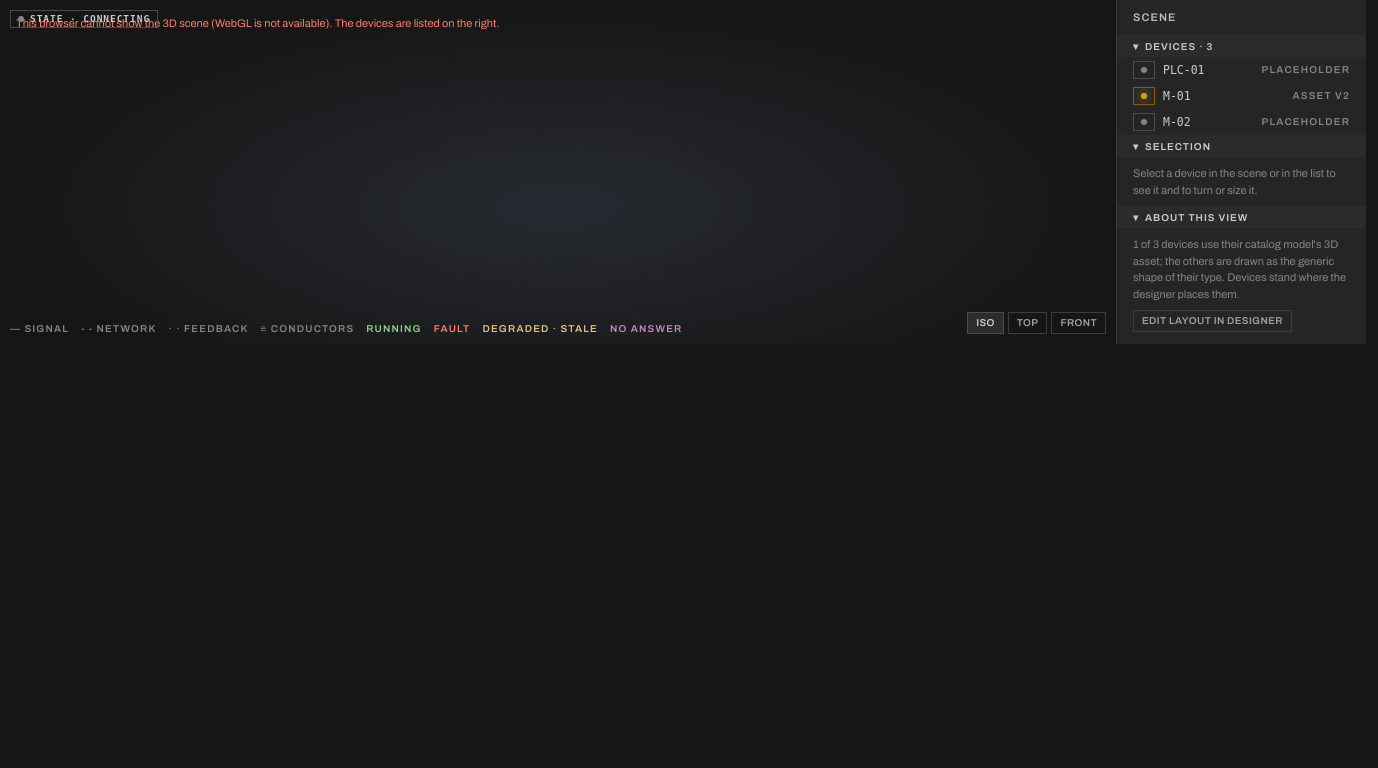
SceneView › stays usable without WebGL: no scene, but the devices and their details
Expected: the 1st message shows "WebGL is not available", x1=16 y1=17 x2=499 y2=29
Click the button "M-01 asset v2" at coordinates (1242, 96), box x1=1117 y1=83 x2=1366 y2=109
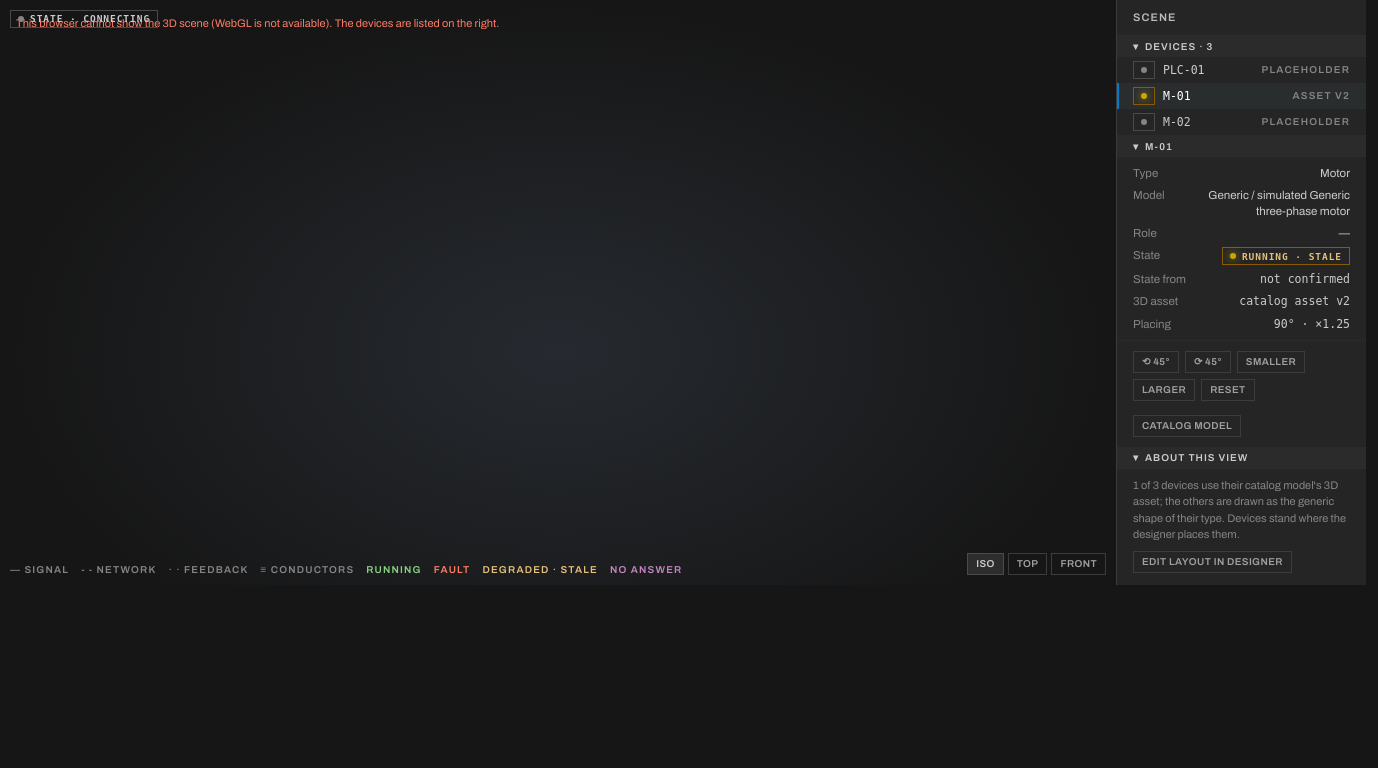
Result: the text "catalog asset v2" is shown at x1=1239 y1=294 x2=1350 y2=308
